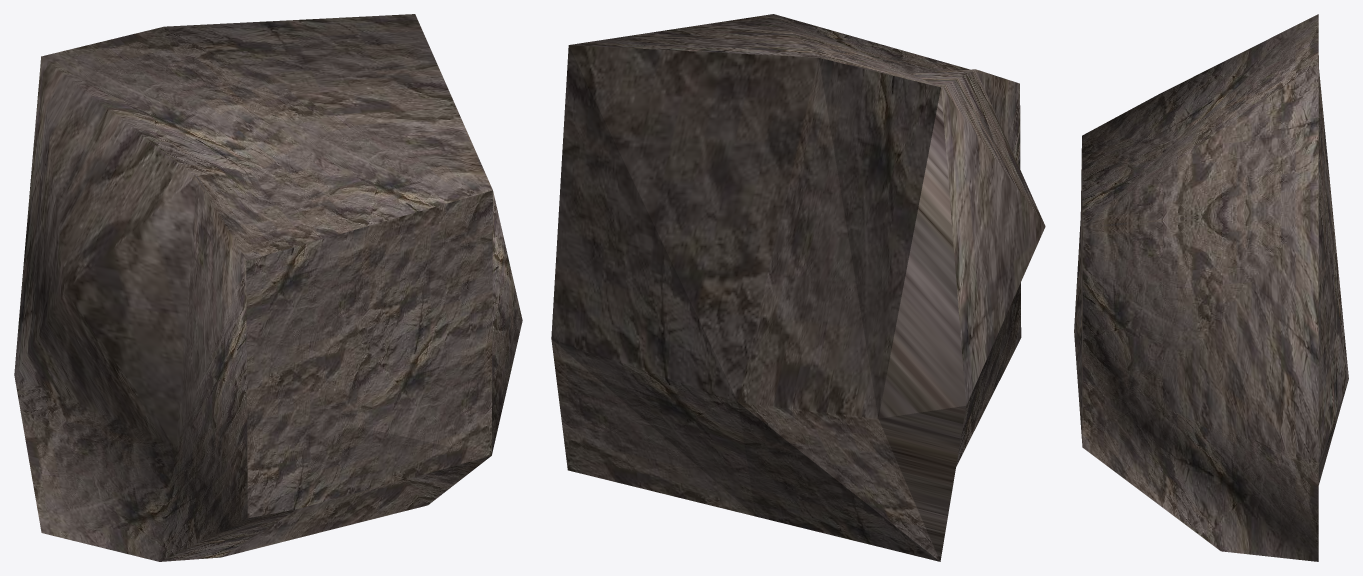
File: ground_under2.obj
The picture shows the model from 3 angles, left to right: view 1: azimuth 30°, elevation 25°; view 2: azimuth 150°, elevation 25°; view 3: azimuth 270°, elevation 25°; orthographic projection. The views are drawn at different scales.
Parts seen in each view (by area): view 1: Cube; view 2: Cube; view 3: Cube.
Part boxes in pixels (x1,y1,x2,y2): Cube: (14,14,522,561); Cube: (551,14,1045,561); Cube: (1074,14,1348,561).
Bounding box in the file's own units: 3.68 × 3.99 × 2.44.
